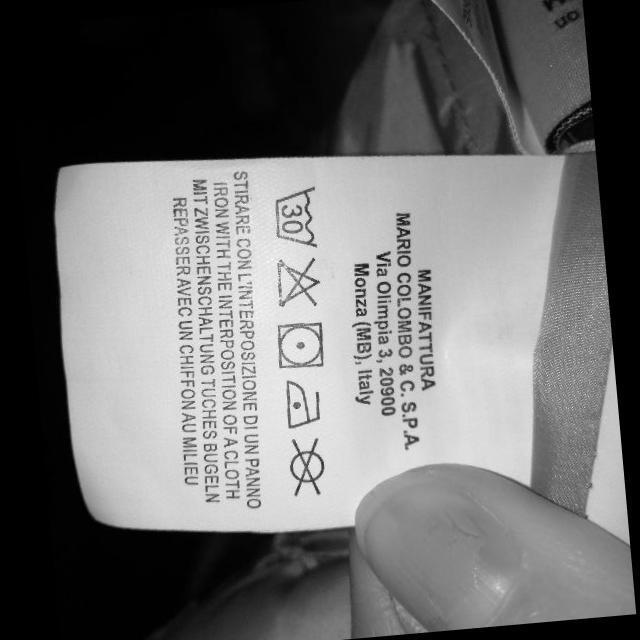30C: (270, 184, 322, 252)
DN_bleach: (271, 253, 324, 310)
DN_dry_clean: (285, 434, 330, 498)
iron_low: (281, 376, 323, 432)
tumble_dry_low: (272, 318, 328, 372)
